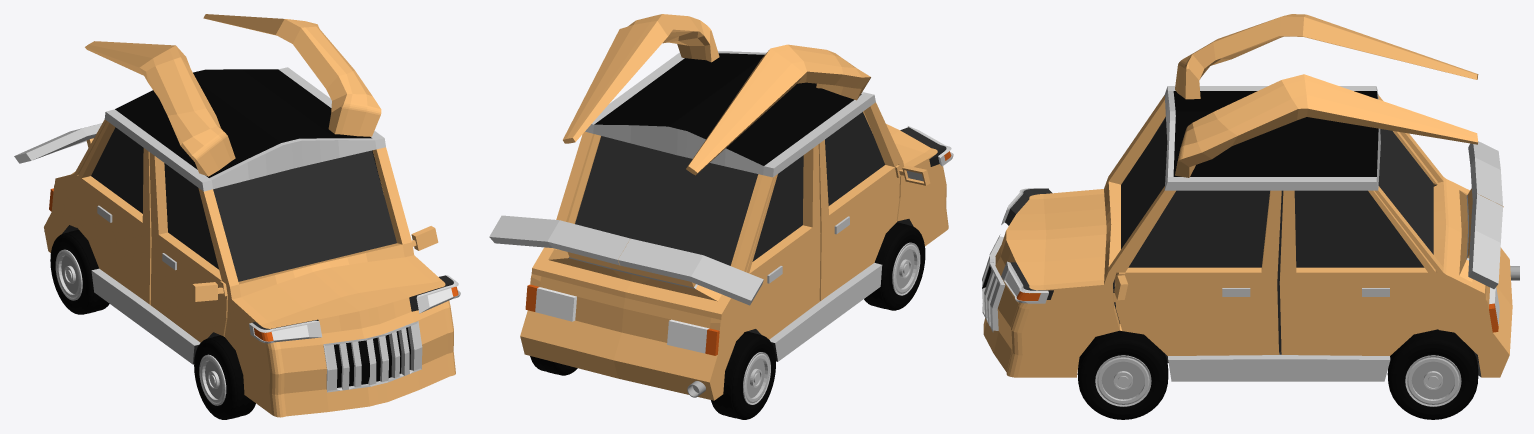
3 views of the same model, side by side, from view 1: azimuth 30°, elevation 25°; view 2: azimuth 150°, elevation 25°; view 3: azimuth 270°, elevation 25° (orthographic). The views are drawn at different scales.
Visible parts, largest first — view 1: BODY39A, WHEEL.001, WHEEL.004; view 2: BODY39A, WHEEL.004, WHEEL.001, WHEEL.002; view 3: BODY39A, WHEEL.002, WHEEL.003.
Part boxes in pixels (x1=…): BODY39A: x1=14, y1=14, x2=460, y2=417; WHEEL.001: x1=194, y1=335, x2=255, y2=419; WHEEL.004: x1=50, y1=229, x2=109, y2=314; BODY39A: x1=489, y1=14, x2=953, y2=400; WHEEL.004: x1=711, y1=331, x2=775, y2=419; WHEEL.001: x1=864, y1=222, x2=925, y2=310; WHEEL.002: x1=530, y1=356, x2=577, y2=375; BODY39A: x1=982, y1=14, x2=1512, y2=381; WHEEL.002: x1=1387, y1=329, x2=1478, y2=419; WHEEL.003: x1=1077, y1=330, x2=1168, y2=419.
Size of the model in its own units: 135 by 154 by 232.
